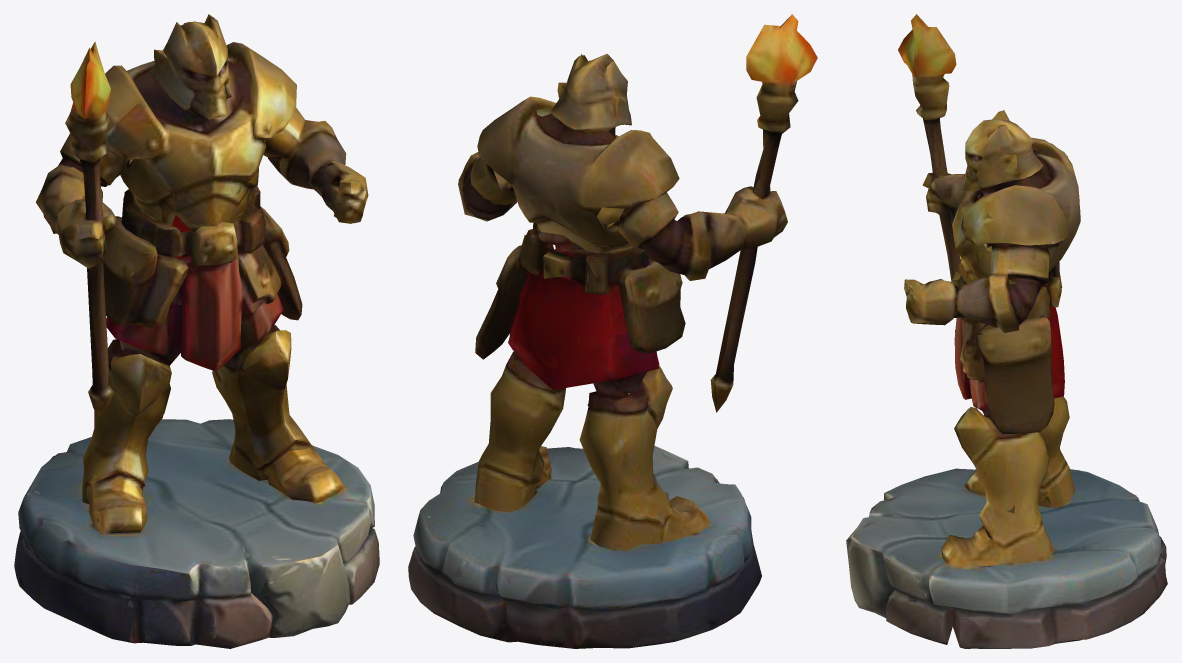
The model's file is colossus.glb.
The picture shows the model from 3 angles, left to right: view 1: azimuth 30°, elevation 25°; view 2: azimuth 150°, elevation 25°; view 3: azimuth 270°, elevation 25°; orthographic projection. The views are drawn at different scales.
Parts seen in each view (by area): view 1: level; view 2: level; view 3: level.
Boxes of the visible parts, x1=… form: level: x1=14, y1=14, x2=379, y2=648; level: x1=408, y1=14, x2=817, y2=648; level: x1=846, y1=14, x2=1167, y2=648.
Size of the model in its own units: 0.4925 by 0.8461 by 0.4823.
Materials: 1 (1 with a texture image).
